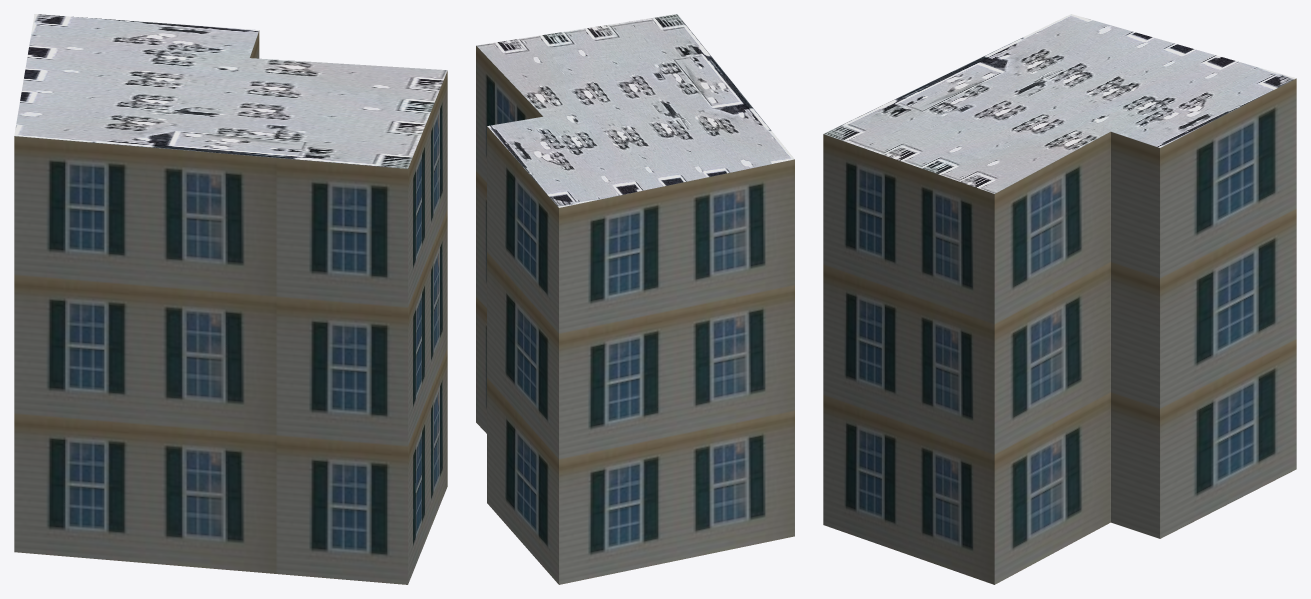
File: ResTex__103.fbx
3 renders of one model, left to right at view 1: azimuth 30°, elevation 25°; view 2: azimuth 150°, elevation 25°; view 3: azimuth 270°, elevation 25°, orthographic. The views are drawn at different scales.
Visible parts, largest first — view 1: CityEngineMaterial_7_m, CityEngineMaterial_4_m; view 2: CityEngineMaterial_7_m, CityEngineMaterial_4_m; view 3: CityEngineMaterial_7_m, CityEngineMaterial_4_m.
Boxes of the visible parts, x1=… form: CityEngineMaterial_7_m: x1=14, y1=31, x2=447, y2=584; CityEngineMaterial_4_m: x1=14, y1=14, x2=447, y2=168; CityEngineMaterial_7_m: x1=476, y1=46, x2=794, y2=584; CityEngineMaterial_4_m: x1=476, y1=14, x2=794, y2=207; CityEngineMaterial_7_m: x1=823, y1=78, x2=1296, y2=584; CityEngineMaterial_4_m: x1=824, y1=14, x2=1296, y2=193.
Bounding box in the file's own units: 8.89 × 9 × 9.88.
2 materials, 2 textured.
